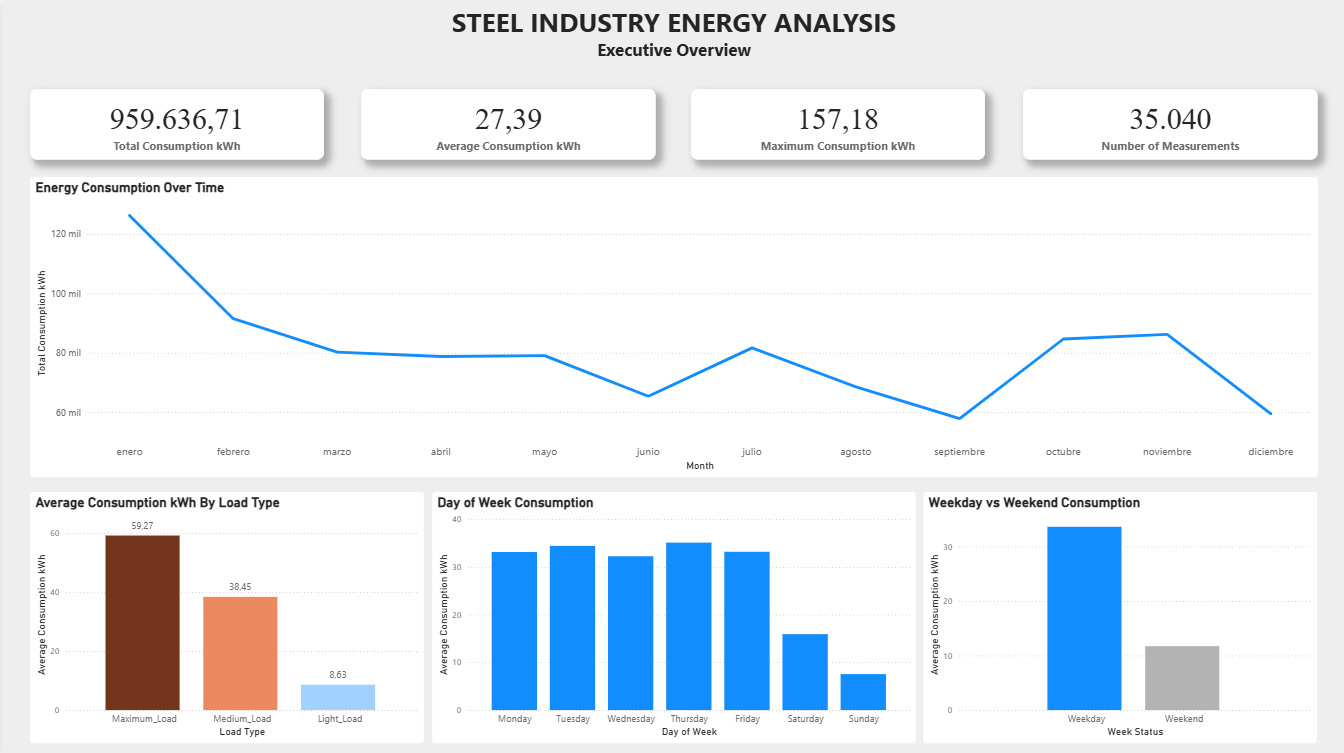

Layout of this report page (visuals, bound fields, positions):
{"tool":"powerbi","page":{"name":"Exec. Overview","canvas":[1920,1080],"ordinal":0},"visuals":[{"type":"card","fields":{"Values":["cleaned_energy_data.Total Consumption"]},"box":[40,127.1,420,101.4],"z":0},{"type":"card","fields":{"Values":["cleaned_energy_data.Average Consumption"]},"box":[512.9,127.1,421.4,101.4],"z":1000},{"type":"card","fields":{"Values":["cleaned_energy_data.Maximum Consumption"]},"box":[984.3,127.1,420,101.4],"z":2000},{"type":"card","fields":{"Values":["cleaned_energy_data.Number of Measurements"]},"box":[1458.6,127.1,421.4,101.4],"z":3000},{"type":"textbox","box":[40,0,1840,94.3],"z":4000},{"type":"lineChart","title":"Energy Consumption Over Time","fields":{"Y":["cleaned_energy_data.Total Consumption kWh"],"Category":["cleaned_energy_data.date.Variación.Jerarquía de fechas.Mes"]},"box":[40,252.9,1840,428.6],"z":5000},{"type":"clusteredColumnChart","title":"Average Consumption kWh By Load Type","fields":{"Category":["cleaned_energy_data.Load_Type"],"Y":["cleaned_energy_data.Average Consumption kWh"]},"box":[40,702.9,562.9,358.6],"z":6000},{"type":"clusteredColumnChart","title":"Weekday vs Weekend Consumption","fields":{"Category":["cleaned_energy_data.WeekStatus"],"Y":["cleaned_energy_data.Average Consumption kWh"]},"box":[1315.7,702.9,562.9,358.6],"z":7000},{"type":"clusteredColumnChart","title":"Day of Week Consumption","fields":{"Y":["cleaned_energy_data.Average Consumption kWh"],"Category":["DayOrder.Day_of_week"]},"box":[614.3,702.9,691.4,358.6],"z":8000}]}

Visuals, with their boxes in screenshot pixels (x1, y1, x2, y2), scaled from the page's 1920x1080 canvas onto the 1344x753 screenshot:
card - cleaned_energy_data.Total Consumption: locate(28, 89, 322, 159)
card - cleaned_energy_data.Average Consumption: locate(359, 89, 654, 159)
card - cleaned_energy_data.Maximum Consumption: locate(689, 89, 983, 159)
card - cleaned_energy_data.Number of Measurements: locate(1021, 89, 1316, 159)
textbox: locate(28, 0, 1316, 66)
"Energy Consumption Over Time" lineChart: locate(28, 176, 1316, 475)
"Average Consumption kWh By Load Type" clusteredColumnChart: locate(28, 490, 422, 740)
"Weekday vs Weekend Consumption" clusteredColumnChart: locate(921, 490, 1315, 740)
"Day of Week Consumption" clusteredColumnChart: locate(430, 490, 914, 740)
